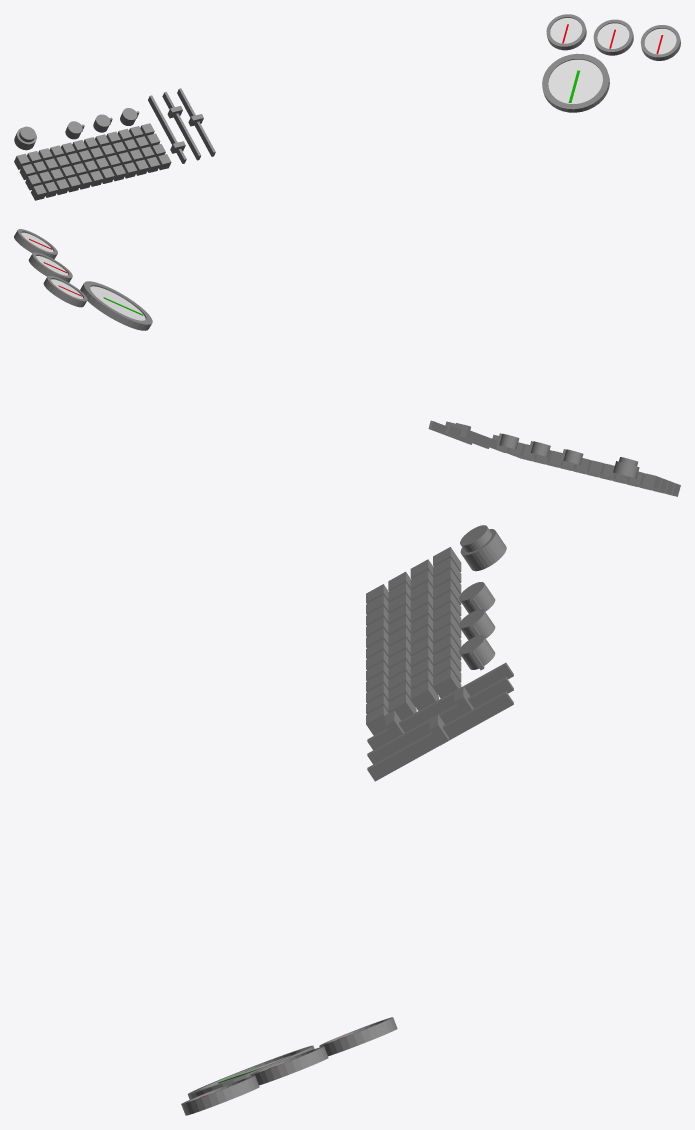
Rendered from controls.fbx.
3 renders of one model, top to bottom at view 1: azimuth 30°, elevation 25°; view 2: azimuth 150°, elevation 25°; view 3: azimuth 270°, elevation 25°, orthographic. The views are drawn at different scales.
Visible parts, largest first — view 1: Cylinder.017, Cylinder.018, Cylinder.013, Cylinder.010, Cylinder.015, Cylinder.014, Cylinder.012, Cylinder.016, Cube.057, Cube.061, Cube.059; view 2: Cylinder.018, Cylinder.017, Cylinder.012, Cylinder.016, Cylinder.014; view 3: Cube.061, Cube.059, Cube.057, Cylinder.016, Cylinder.014, Cylinder.012, Cylinder.005, Cylinder.018.
Part boxes in pixels (bbox=[...]): Cylinder.017: bbox=[548, 59, 602, 103]; Cylinder.018: bbox=[542, 53, 609, 112]; Cylinder.013: bbox=[597, 23, 629, 48]; Cylinder.010: bbox=[550, 18, 582, 43]; Cylinder.015: bbox=[644, 28, 676, 54]; Cylinder.014: bbox=[593, 19, 633, 55]; Cylinder.012: bbox=[546, 14, 586, 50]; Cylinder.016: bbox=[640, 25, 680, 60]; Cube.057: bbox=[148, 95, 186, 163]; Cube.061: bbox=[177, 88, 215, 156]; Cube.059: bbox=[162, 92, 201, 160]; Cylinder.018: bbox=[80, 281, 152, 330]; Cylinder.017: bbox=[90, 286, 145, 320]; Cylinder.012: bbox=[43, 275, 87, 307]; Cylinder.016: bbox=[14, 229, 57, 259]; Cylinder.014: bbox=[28, 252, 72, 282]; Cube.061: bbox=[367, 691, 513, 781]; Cube.059: bbox=[367, 677, 513, 764]; Cube.057: bbox=[367, 662, 513, 750]; Cylinder.016: bbox=[181, 1075, 259, 1115]; Cylinder.014: bbox=[250, 1046, 328, 1085]; Cylinder.012: bbox=[319, 1017, 397, 1056]; Cylinder.005: bbox=[460, 529, 506, 571]; Cylinder.018: bbox=[187, 1045, 314, 1099].
Size of the model in its own units: 553 by 50.09 by 132.
